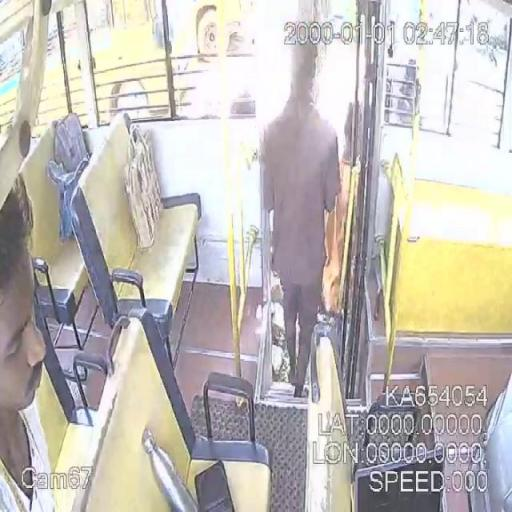persona: (260, 38, 342, 399), (0, 170, 58, 510)
